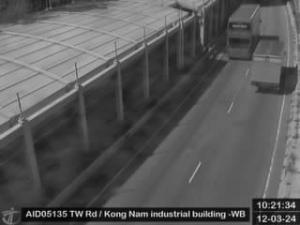bus: (225, 2, 263, 60)
truck: (253, 40, 287, 92)
